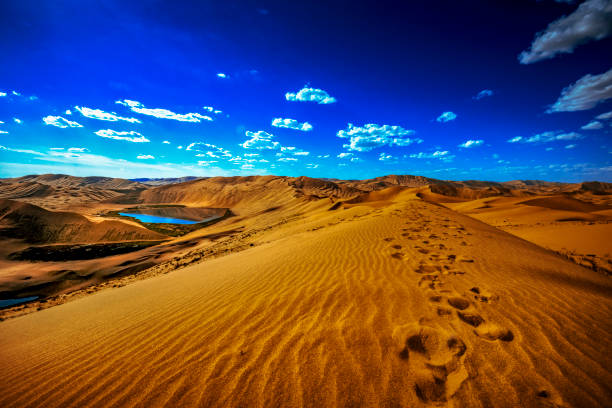human_footprint: (415, 252, 513, 340), (398, 325, 468, 402), (447, 295, 513, 341), (448, 296, 483, 326), (474, 323, 513, 341), (427, 289, 452, 316), (470, 287, 498, 302), (457, 311, 483, 326), (418, 274, 443, 289), (415, 262, 441, 273), (447, 296, 469, 309), (390, 244, 403, 259), (436, 306, 452, 316), (442, 268, 464, 274), (456, 255, 473, 262), (401, 232, 418, 239), (415, 246, 429, 253), (391, 252, 403, 259), (391, 244, 401, 249), (383, 237, 393, 241)
